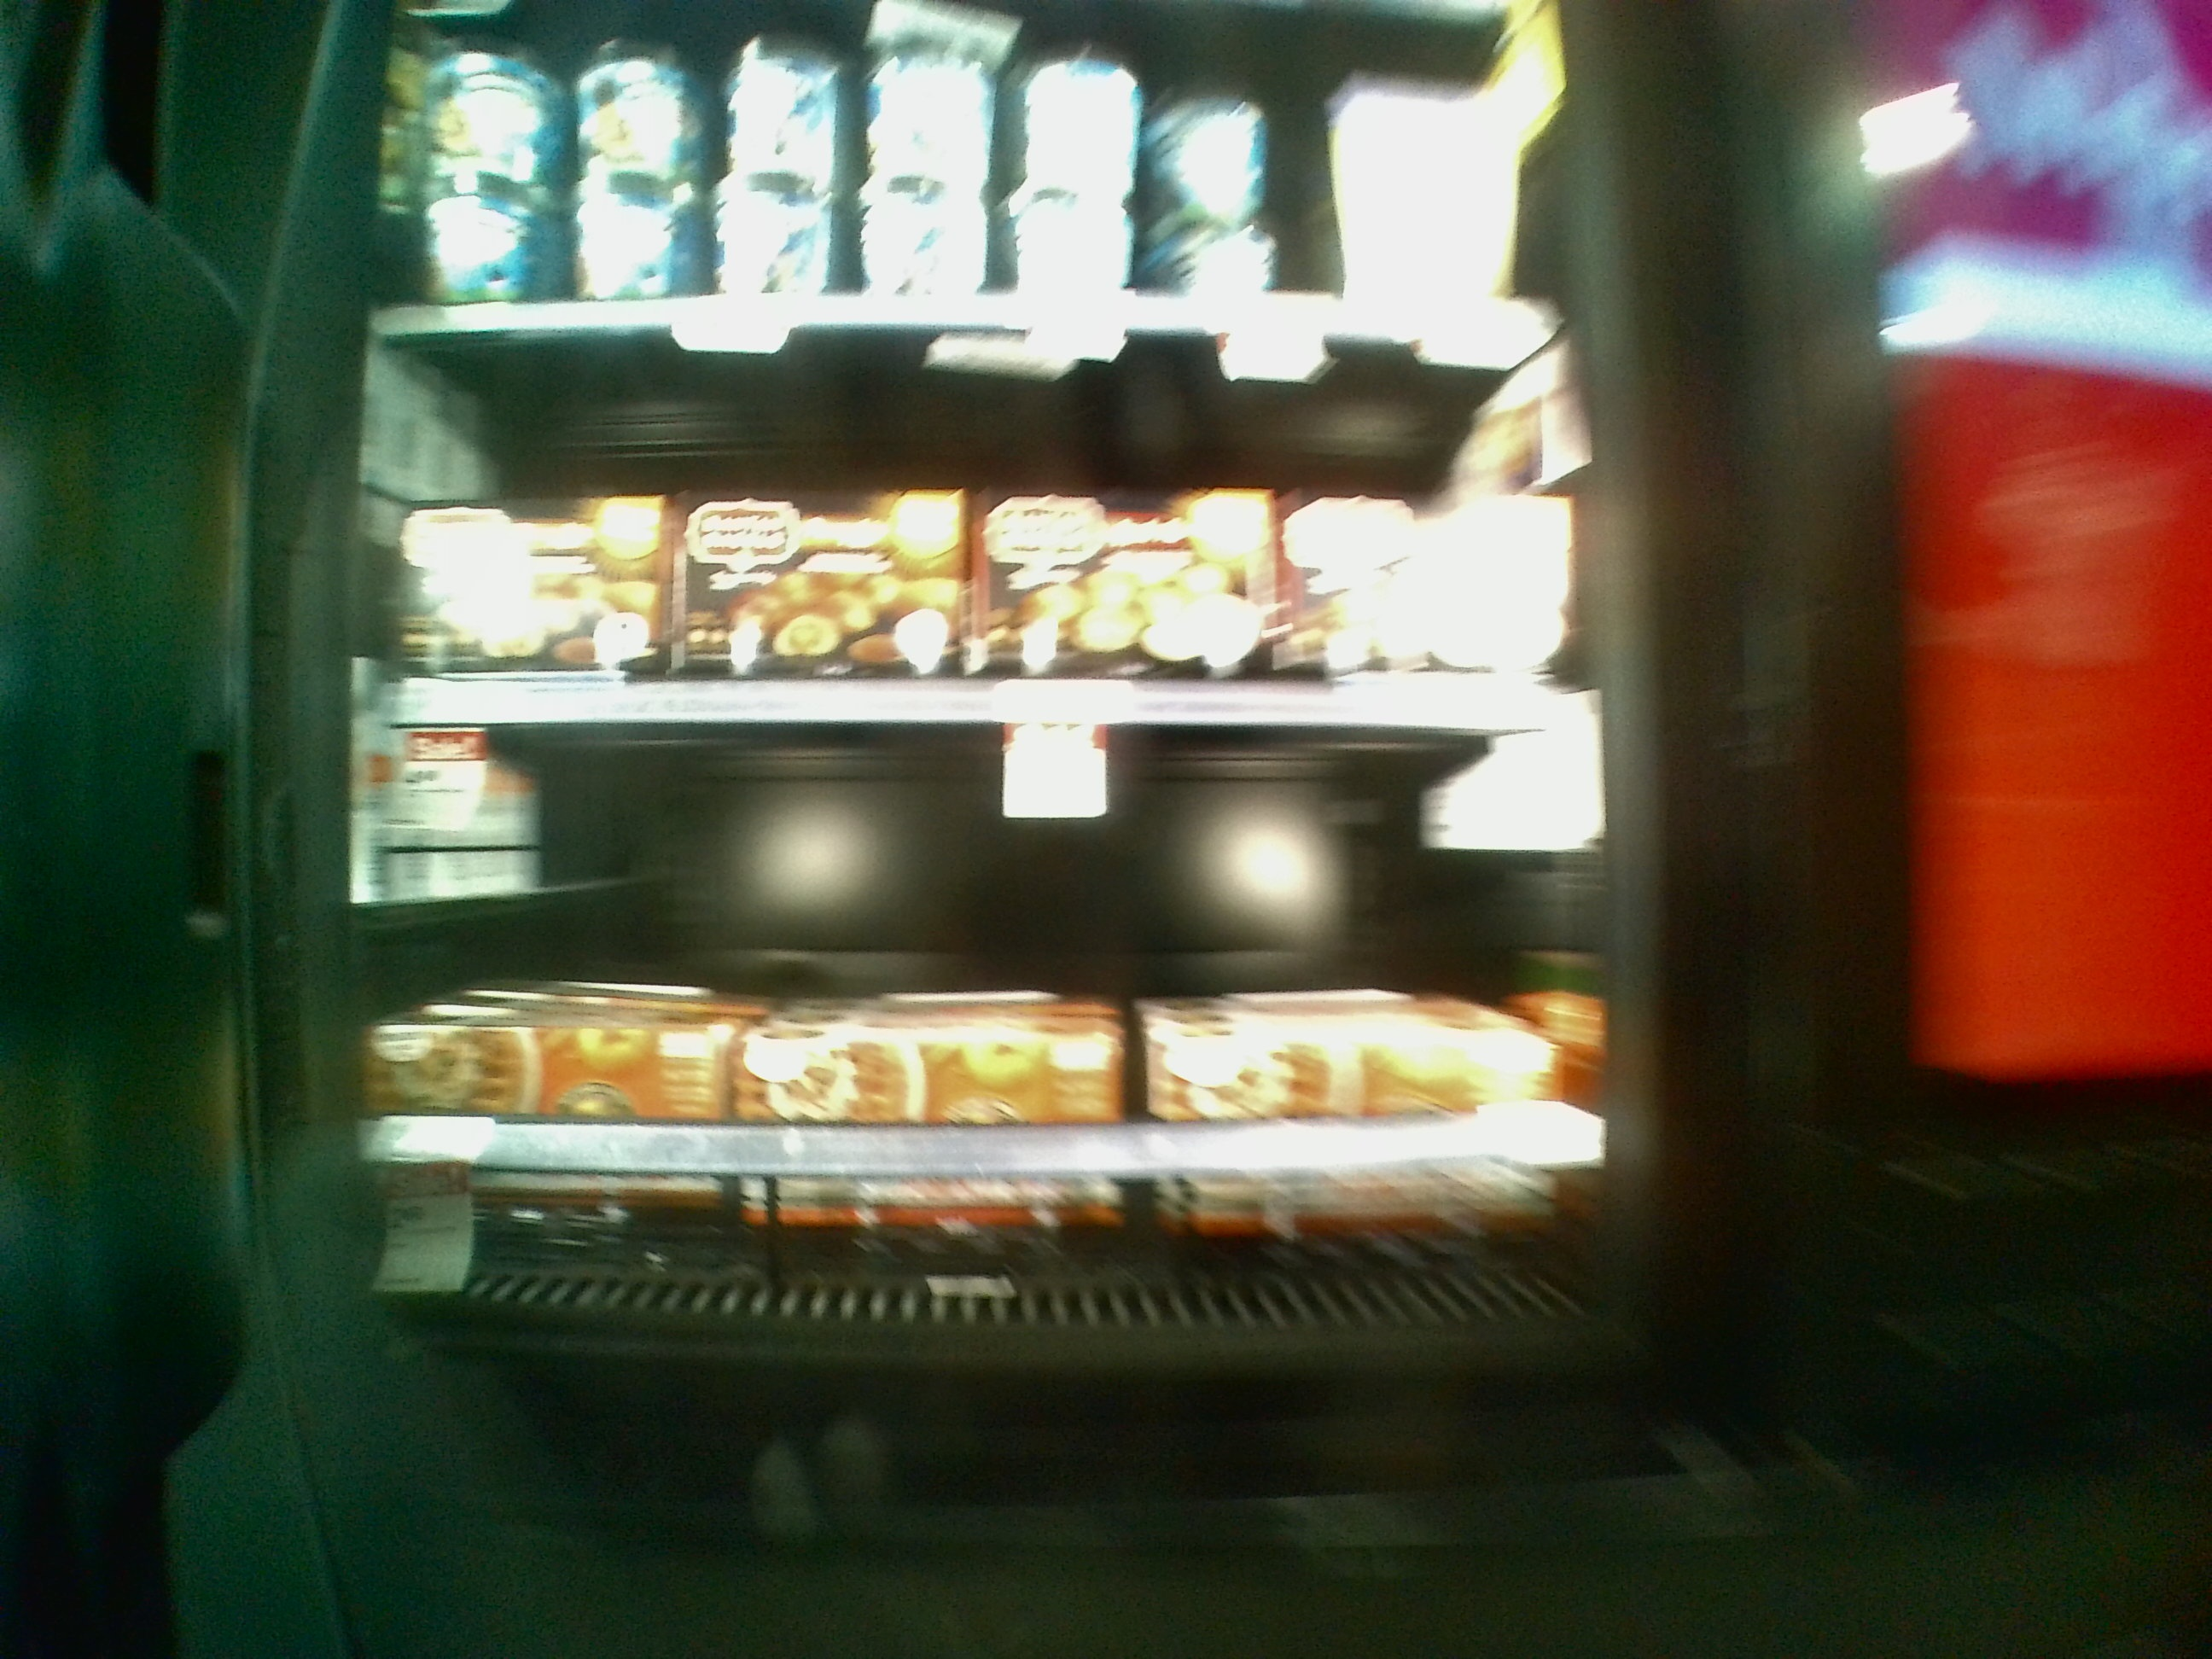shelf: (333, 694, 1625, 1342), (354, 321, 1599, 727)
